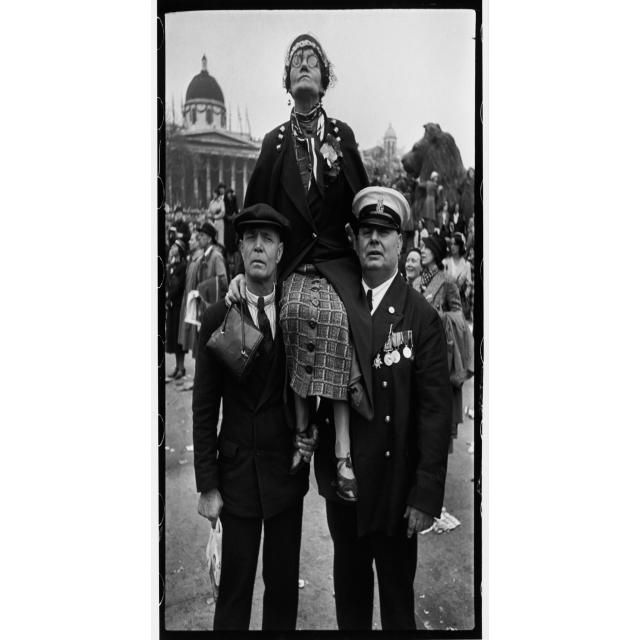body: (222, 28, 404, 506), (313, 186, 454, 632), (192, 202, 320, 631), (366, 166, 476, 294), (412, 230, 474, 454), (162, 181, 242, 269), (182, 222, 229, 361), (163, 237, 192, 383), (441, 232, 472, 324), (415, 170, 442, 237), (457, 167, 475, 228), (167, 206, 191, 244)
